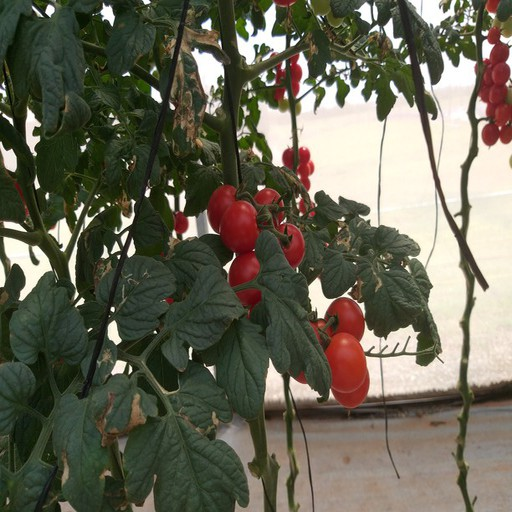red tomato bunch: (204, 183, 369, 410), (475, 22, 512, 144), (283, 145, 314, 224), (271, 47, 300, 104)
